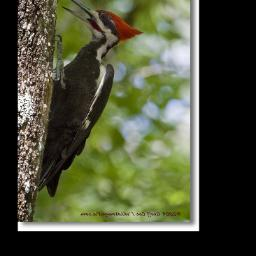Woodpecker: (38, 0, 144, 198)
